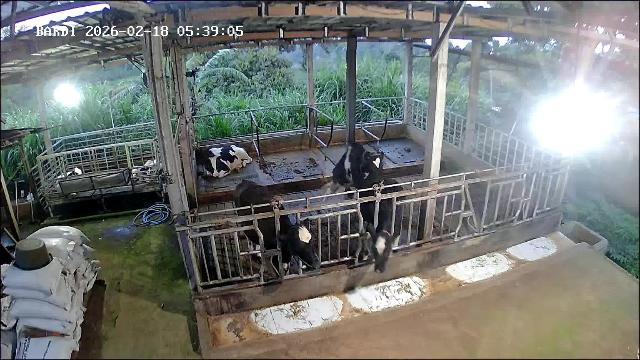mounting: (311, 140, 385, 223)
